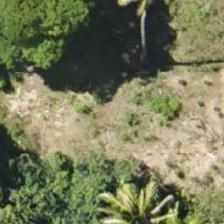coconut_tree: (92, 164, 182, 223)
